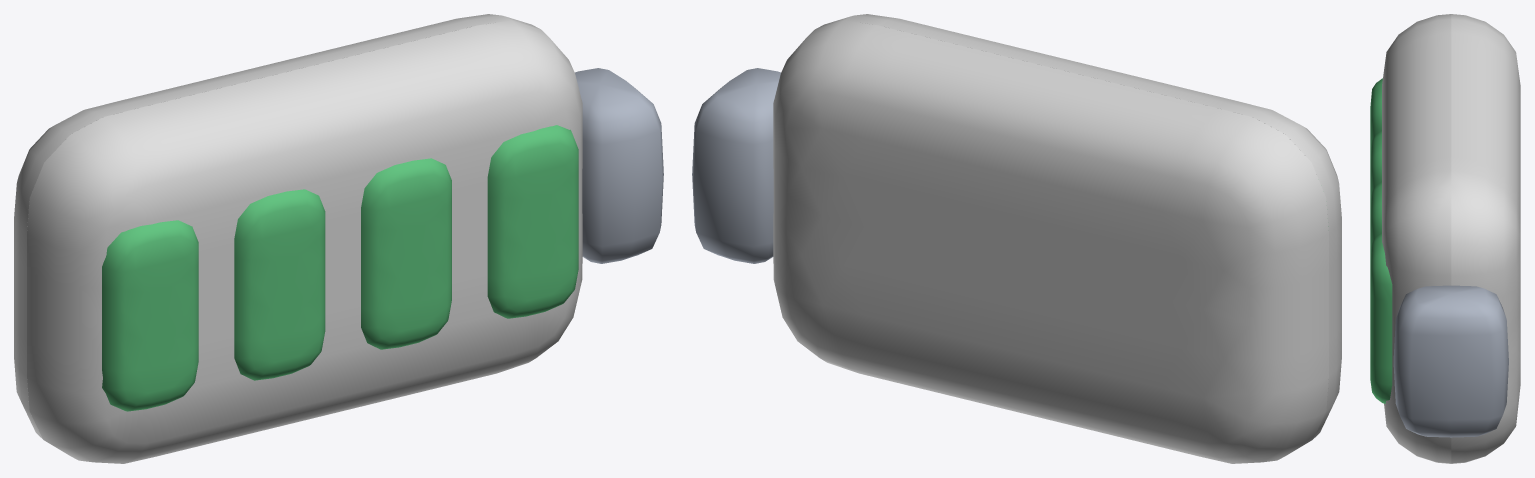
File: battery_full.glb
3 renders of one model, left to right at view 1: azimuth 30°, elevation 25°; view 2: azimuth 150°, elevation 25°; view 3: azimuth 270°, elevation 25°, orthographic. The views are drawn at different scales.
Visible parts, largest first — view 1: battery_full; view 2: battery_full; view 3: battery_full.
Part boxes in pixels (box(x1,y1,x2,y2)): battery_full: box(14, 14, 663, 463); battery_full: box(692, 14, 1341, 463); battery_full: box(1370, 14, 1520, 463).
Size of the model in its own units: 1 by 0.5294 by 0.2549.
